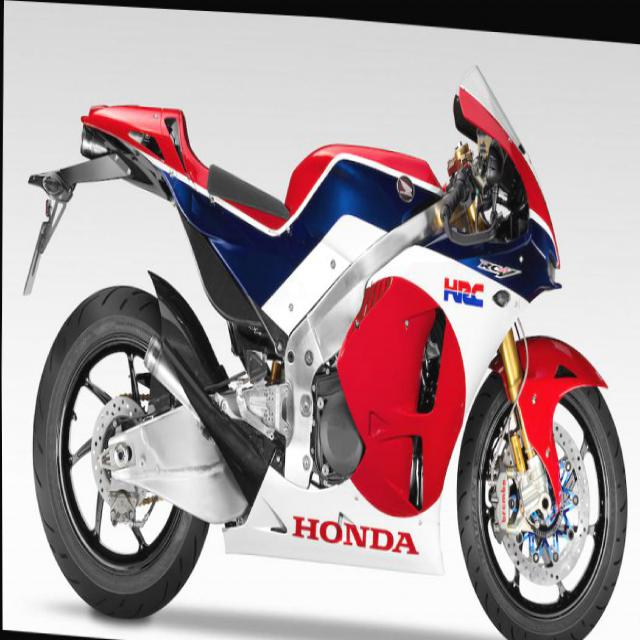HRC RCV 213: (18, 24, 632, 639)
